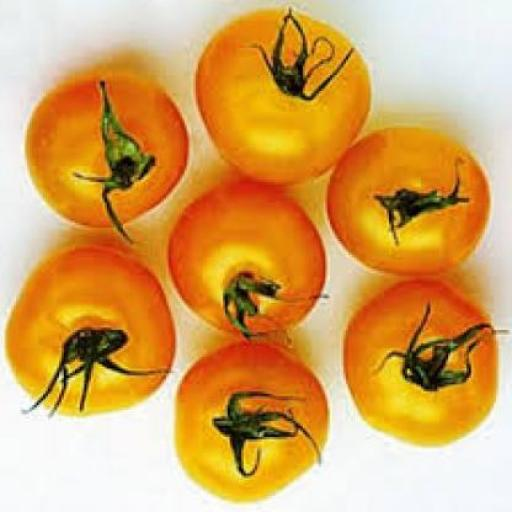biodegradable: (198, 12, 371, 186), (9, 248, 178, 423), (27, 68, 190, 241), (170, 180, 328, 343), (346, 282, 501, 448), (177, 342, 330, 505), (330, 130, 493, 277)
